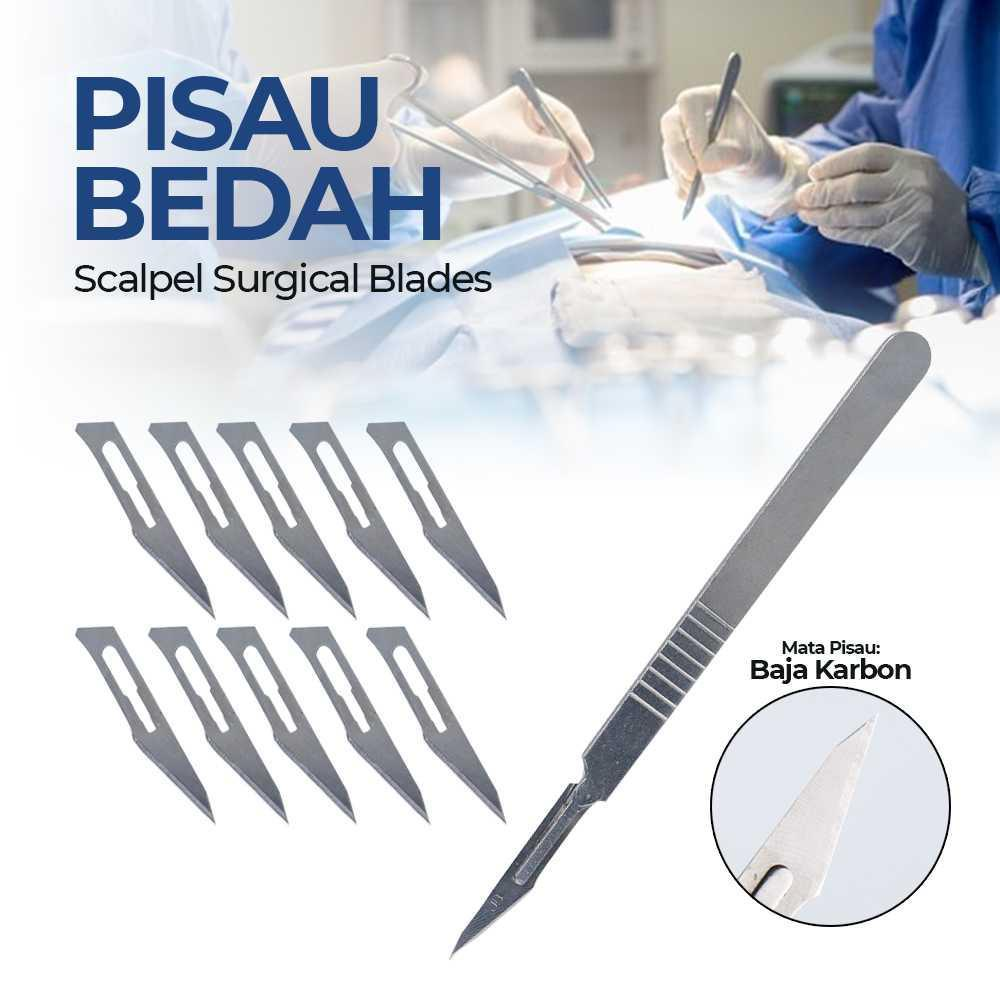faca: (454, 594, 736, 952), (291, 422, 427, 615), (76, 627, 212, 820), (149, 627, 286, 818), (369, 422, 503, 616), (291, 629, 427, 820), (218, 423, 353, 615), (368, 627, 503, 819), (219, 627, 353, 819), (76, 422, 211, 612), (150, 424, 284, 613)
